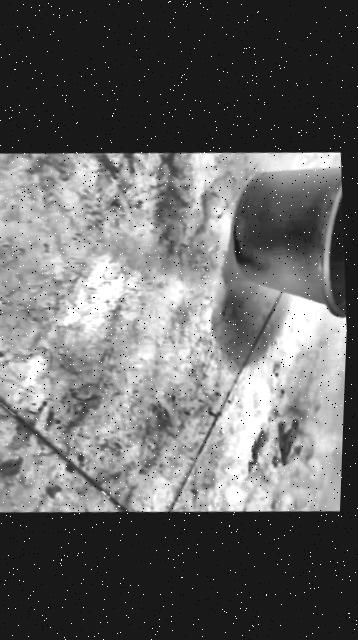pot: (224, 151, 352, 323)
